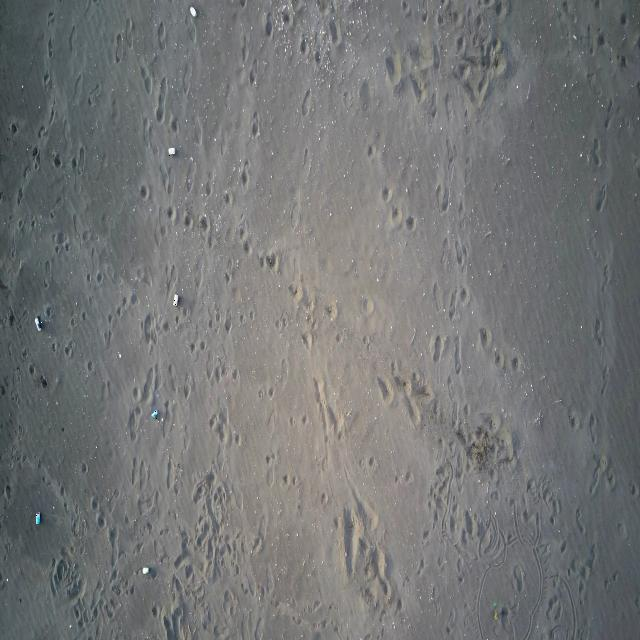tin-and-aluminum-cans: (36, 316, 44, 331), (189, 5, 198, 18), (173, 292, 180, 307), (35, 511, 41, 526), (141, 566, 150, 576), (152, 410, 160, 420), (169, 145, 176, 156)
